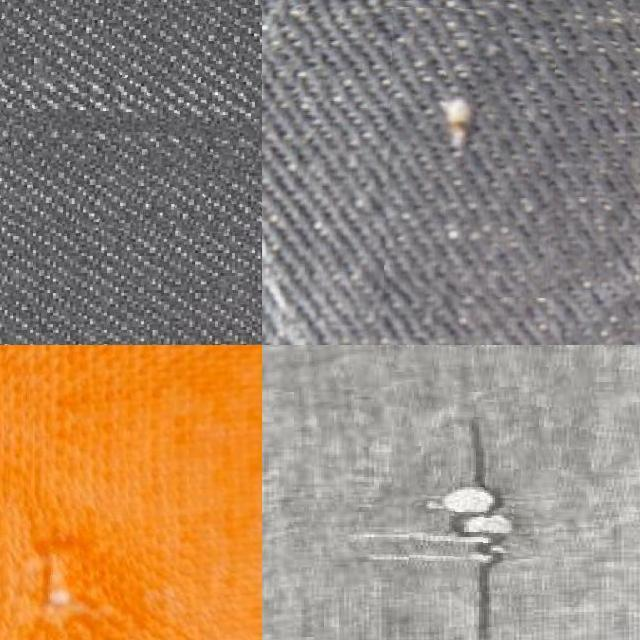other: (409, 446, 557, 592), (0, 507, 125, 640)
stains: (386, 8, 554, 296)
